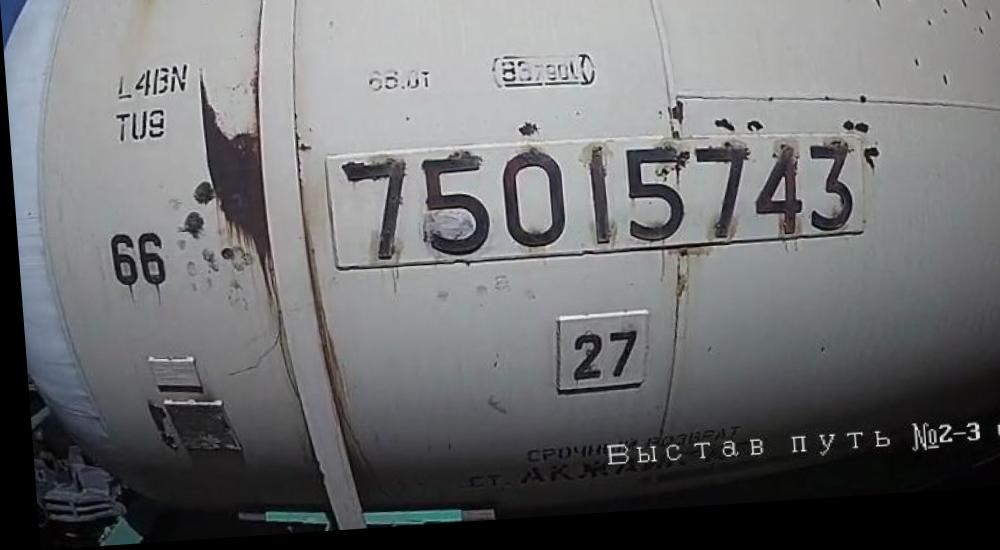Wagon-number: (334, 130, 857, 272)
